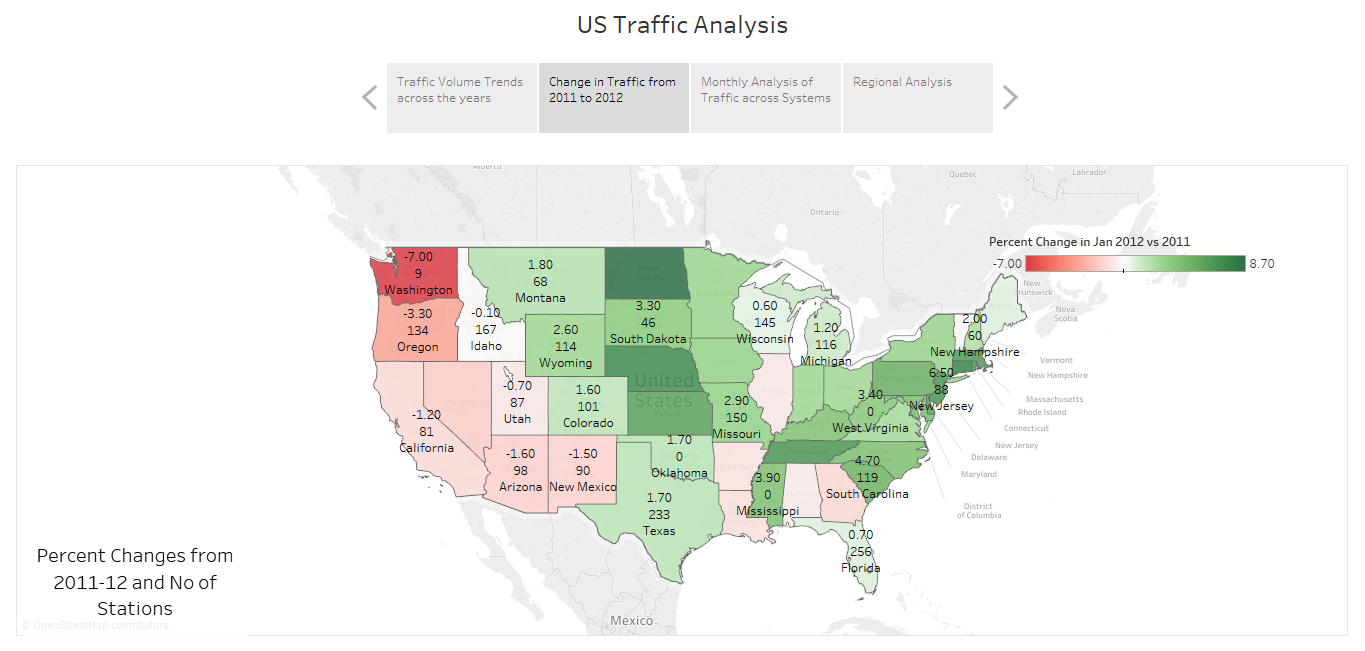

What the dashboard file says about the page in this screenshot:
{"tool":"tableau","page":{"name":"Percent Changes from 2011-12","canvas":[1000,1000],"units":"permille","ordinal":1},"visuals":[{"type":"worksheet","title":"Percent Changes of Travel from Jan 2011 - 2012 and No of Stations on All Roads","mark":"Automatic","box":[0,0,995.7,1000]},{"type":"legend","title":"Percent Changes of Travel from Jan 2011 - 2012 and No of Stations on All Roads","param":"[federated.08m23zs0l2omz910szq480pvkorx].[sum:Percent Change in Jan 2012 vs 2011","box":[727.7,155.1,215.4,96.1]}]}

Visuals, with their boxes on the dashboard's canvas, which has no fixed pixel size, in thousandths of its width and height (x1, y1, x2, y2). These are canvas units, not pixel positions in the 1365x651 screenshot, which may show the page scaled, cropped or inside an application window:
"Percent Changes of Travel from Jan 2011 - 2012 and No of Stations on All Roads" worksheet: BBox(0, 0, 996, 1000)
"Percent Changes of Travel from Jan 2011 - 2012 and No of Stations on All Roads" legend: BBox(728, 155, 943, 251)
